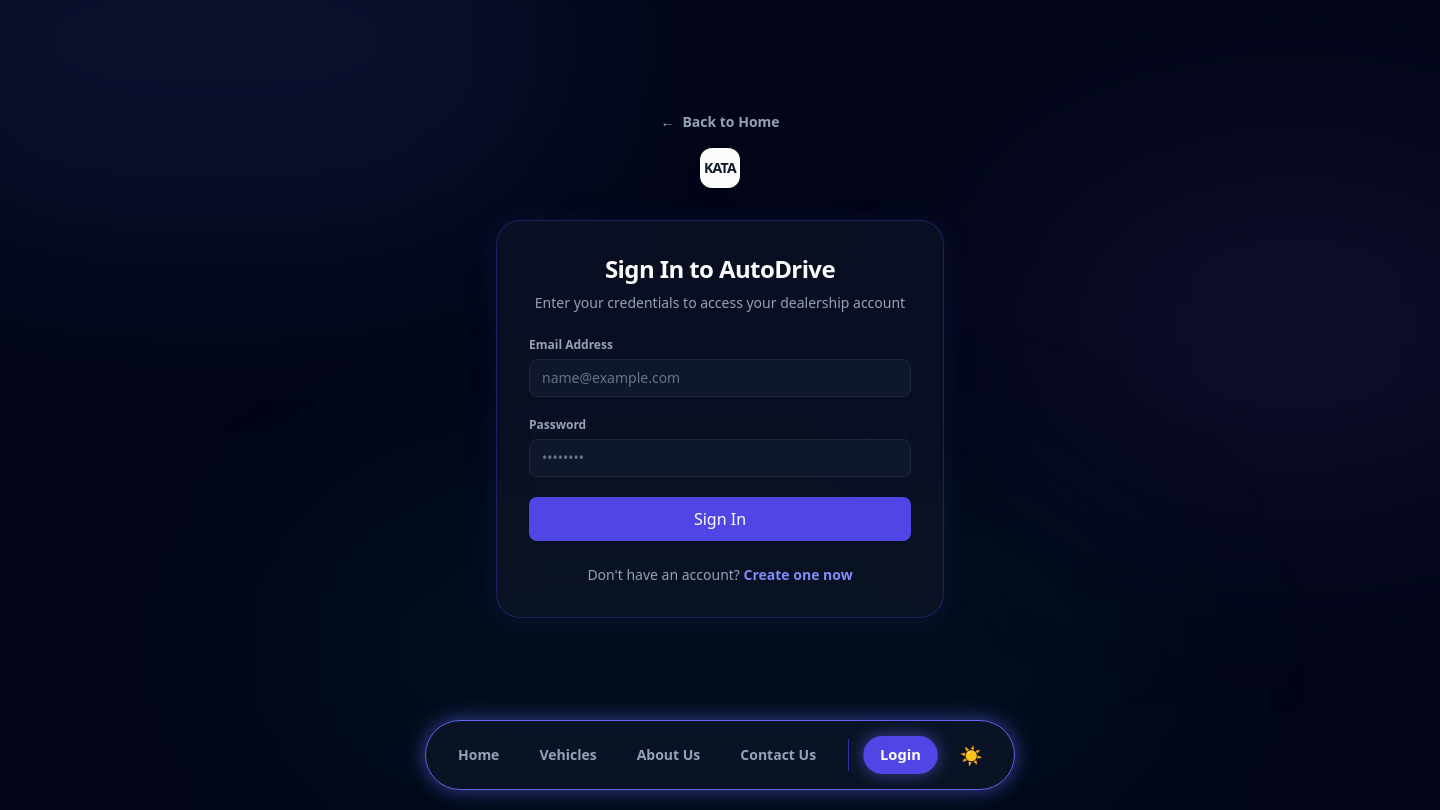
it: End-to-End Workflows › Administrator Workflow › allows an admin to log in, view dashboard, and edit inventory
The width and height of the screenshot is (1440, 810).
Note: Fill login form
Type "admin@dealership.com" into the field labelled "Email Address".
click(720, 378); type("admin@dealership.com")  # box [529,359,911,397]
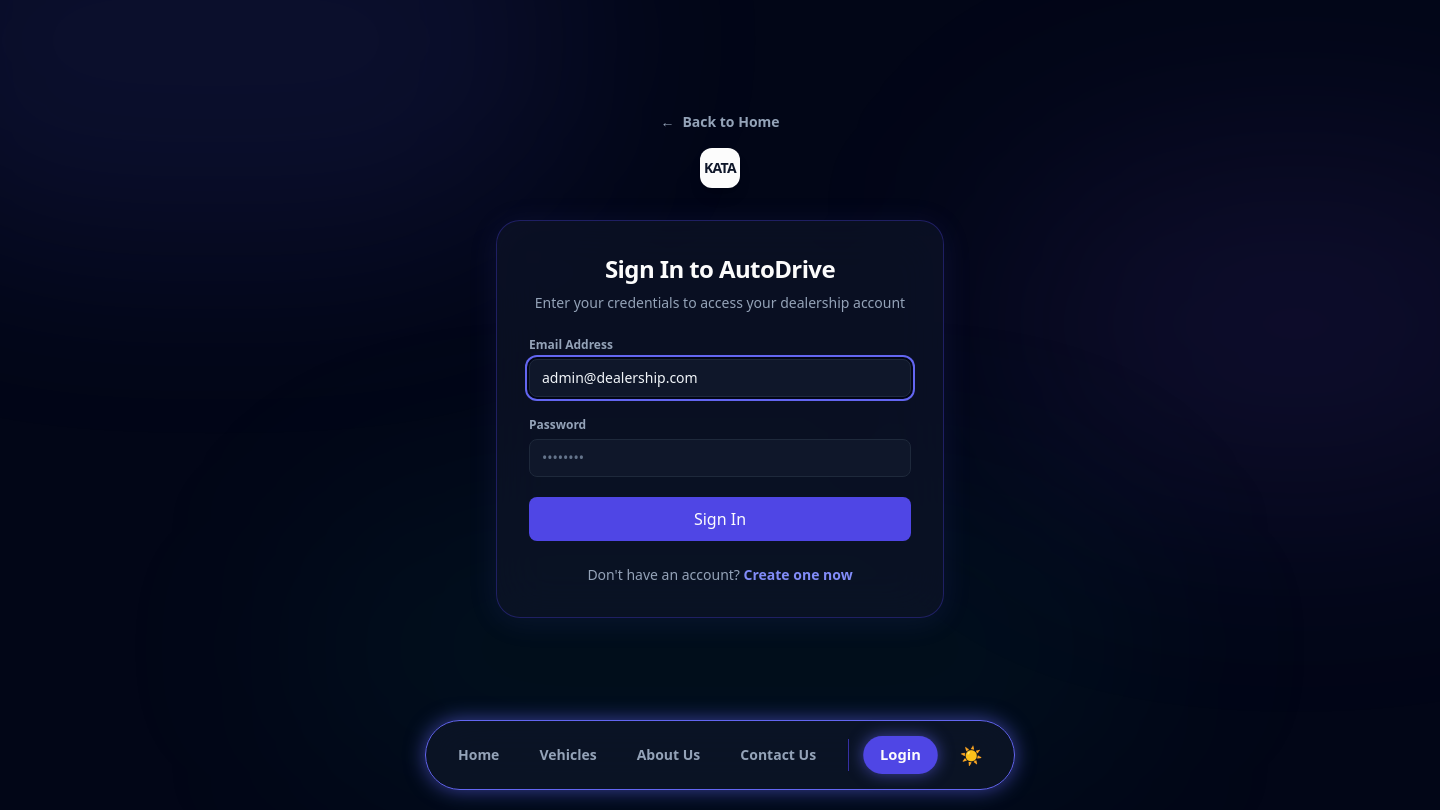
Type "adminpass" into the password field labelled "Password".
click(720, 458); type("adminpass")  # box [529,439,911,477]
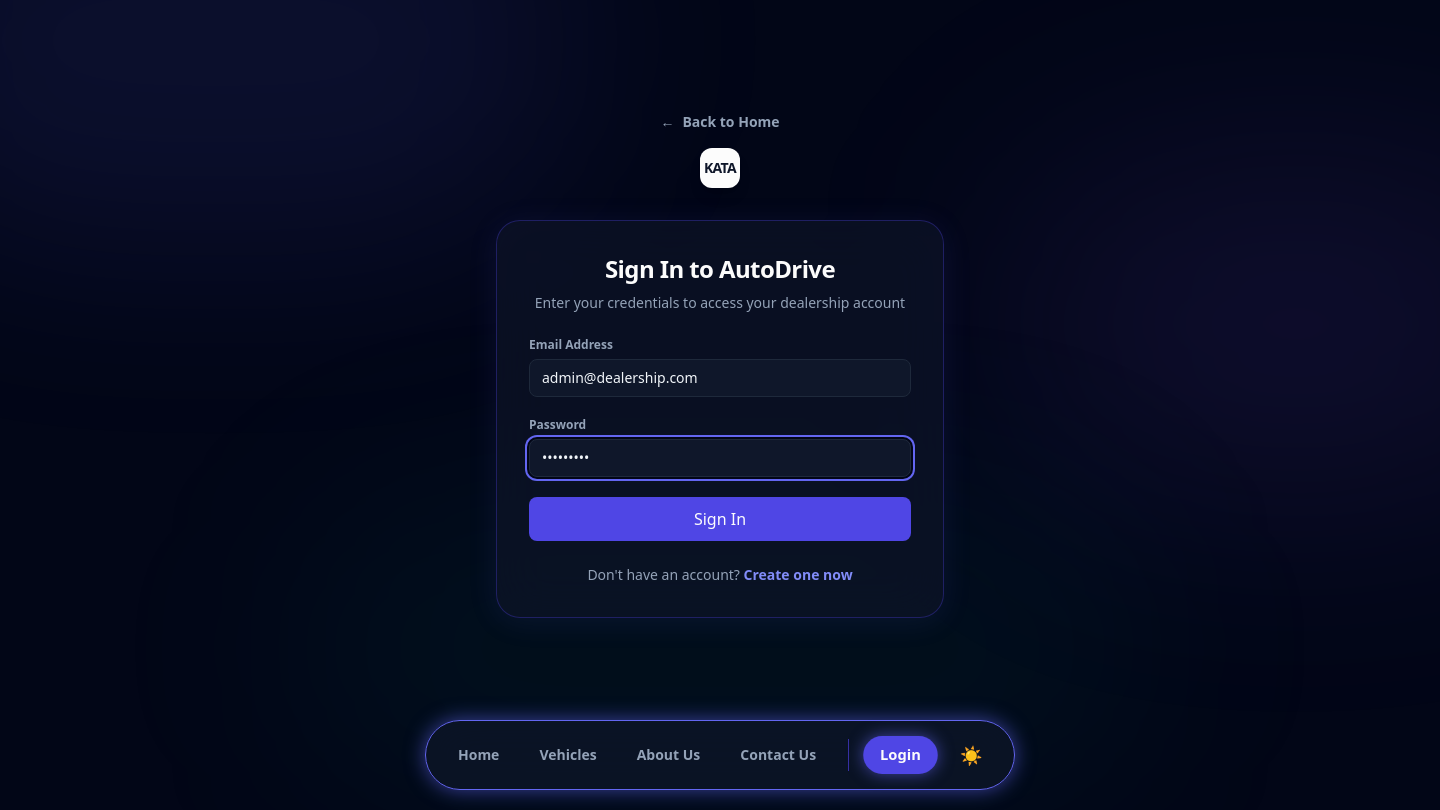
Click the button "Sign In".
click(720, 519)  # box [529,497,911,541]
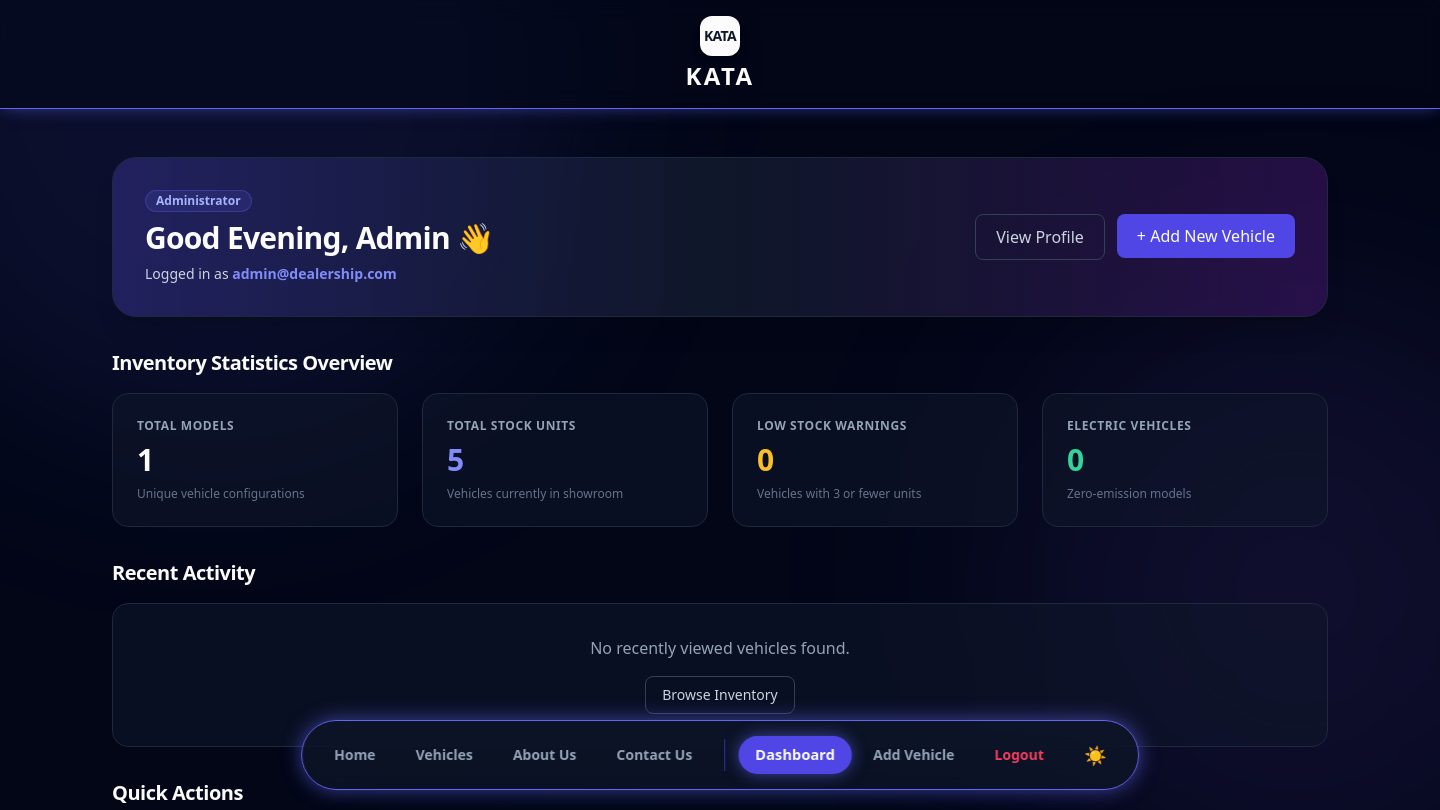
expect the heading "Inventory Statistics Overview" is shown: met, box [112,349,392,376]
Note: Click Add New Vehicle
Click the button "+ Add New Vehicle".
click(1206, 236)  # box [1117,214,1295,258]
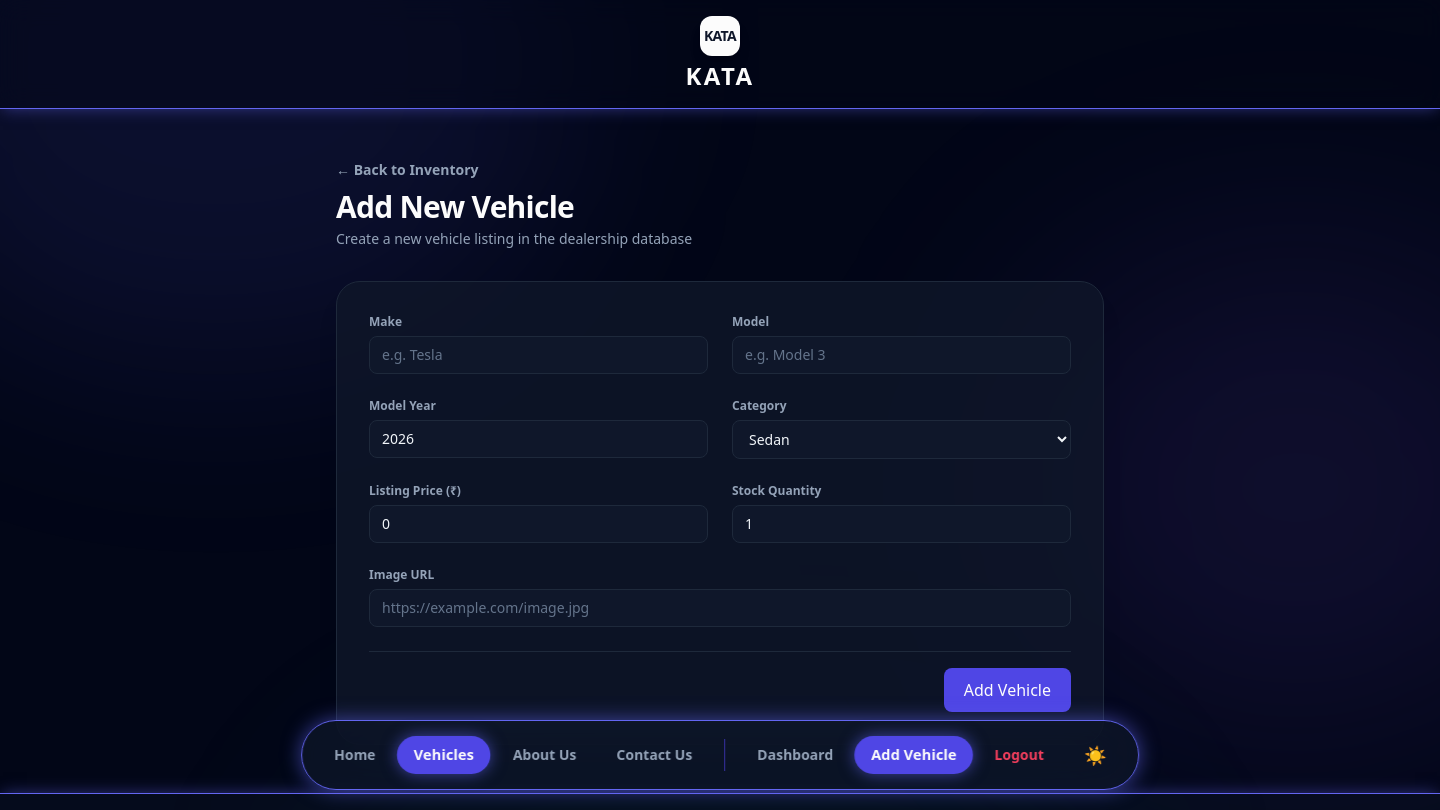
expect the heading "Add New Vehicle" is shown: met, box [336,186,574,227]
